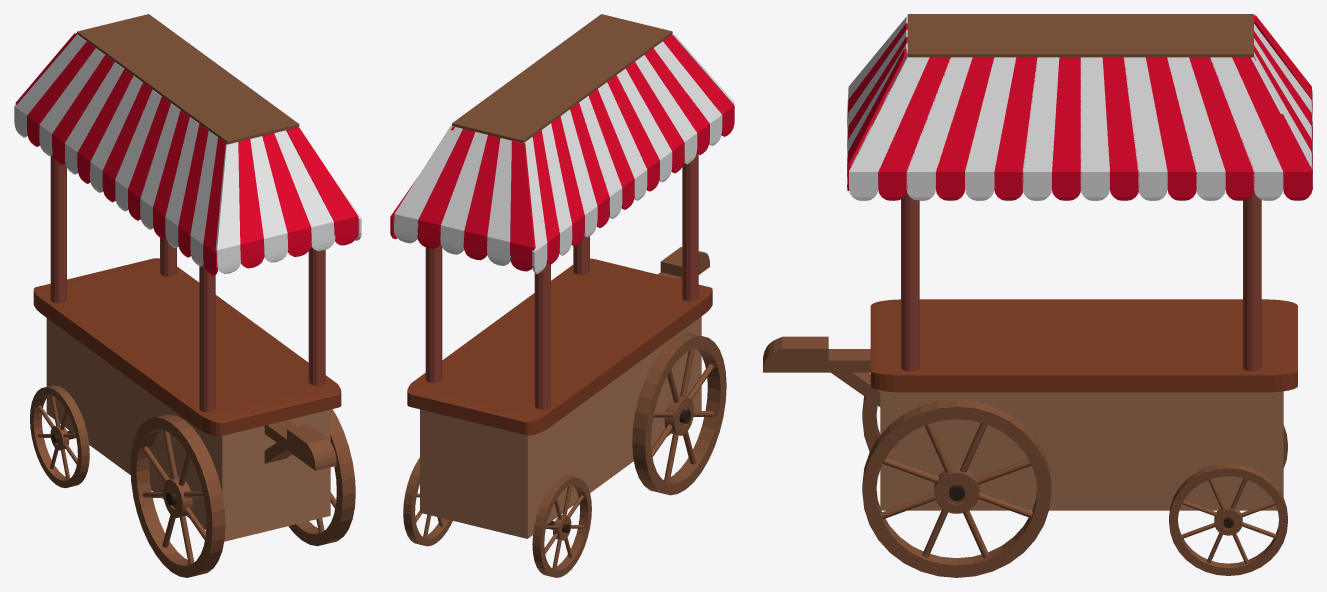
File: food_stall.glb
The picture shows the model from 3 angles, left to right: view 1: azimuth 30°, elevation 25°; view 2: azimuth 150°, elevation 25°; view 3: azimuth 270°, elevation 25°; orthographic projection. The views are drawn at different scales.
Visible parts, largest first — view 1: Cylinder.005_Material.009_0; view 2: Cylinder.005_Material.009_0; view 3: Cylinder.005_Material.009_0.
Part boxes in pixels (left/top/right/bottom): Cylinder.005_Material.009_0: left=14, top=14, right=361, bottom=577; Cylinder.005_Material.009_0: left=390, top=14, right=734, bottom=577; Cylinder.005_Material.009_0: left=763, top=14, right=1312, bottom=577.
Bounding box in the file's own units: 0.8417 × 2.4 × 2.38.
Materials: 1 (1 with a texture image).
